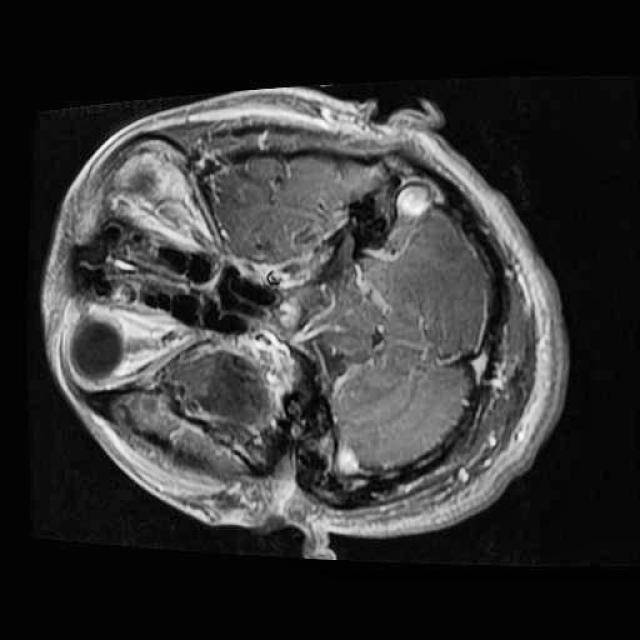Non-Tumor: (155, 326, 288, 461)
